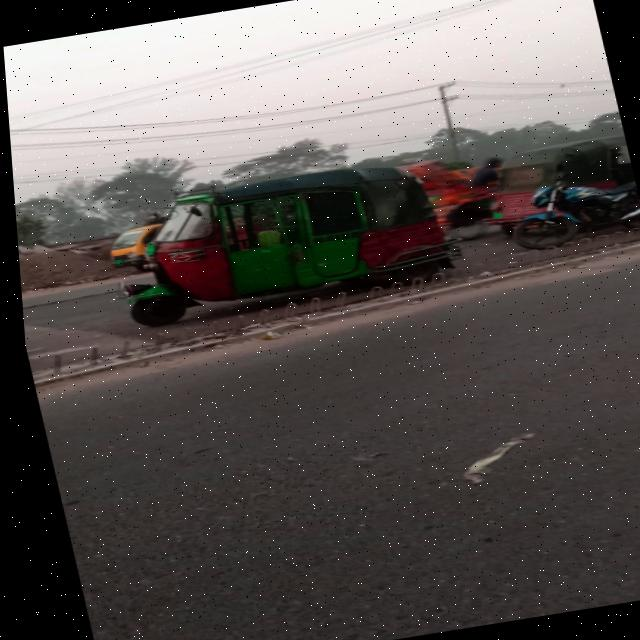cng: (11, 133, 483, 374)
